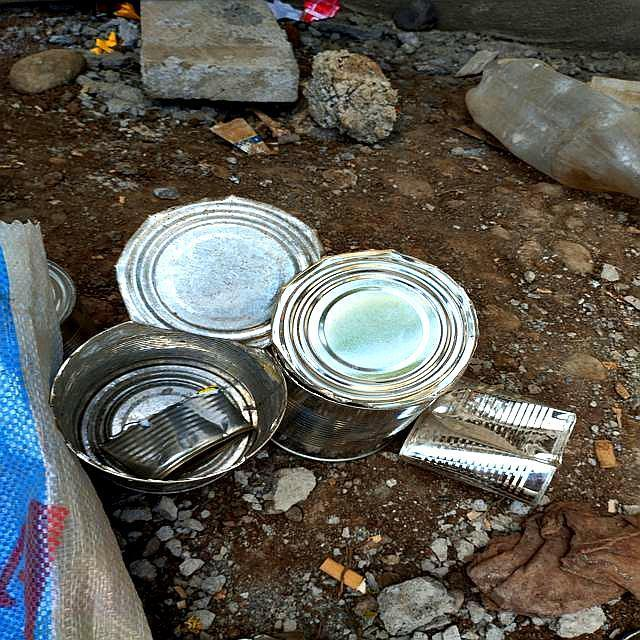Non-biodegradable: (275, 249, 484, 470), (55, 329, 286, 494), (114, 196, 327, 351), (401, 380, 579, 506)
